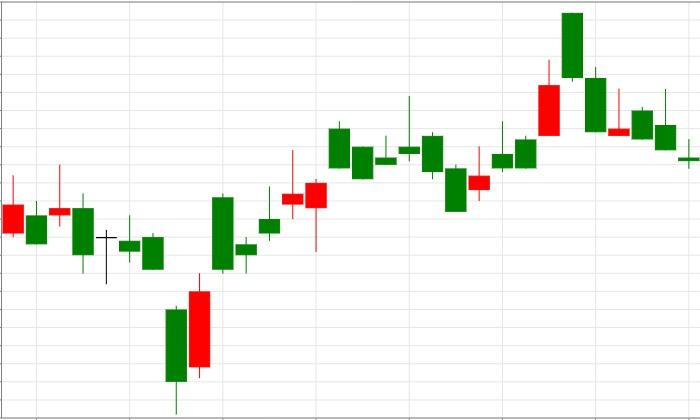hanging_man_fall: (189, 150, 326, 378)
